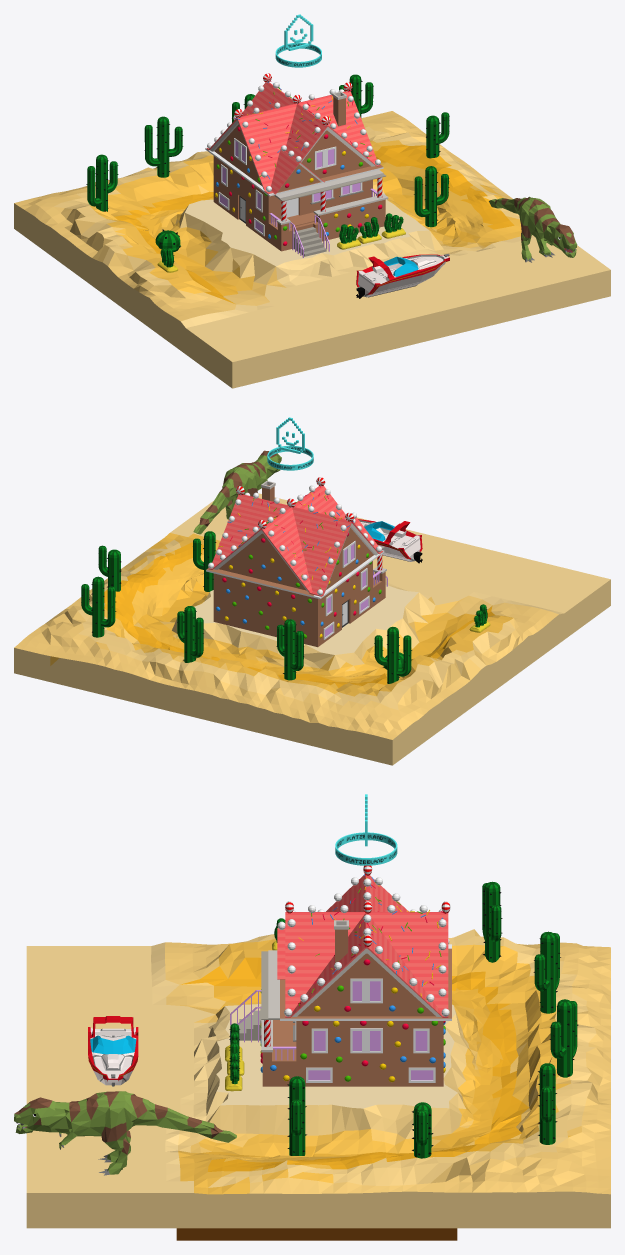
3 renders of one model, top to bottom at view 1: azimuth 30°, elevation 25°; view 2: azimuth 150°, elevation 25°; view 3: azimuth 270°, elevation 25°, orthographic. The views are drawn at different scales.
Visible parts, largest first — view 1: Cube.001, Cube.1203, ANIMAL_TREX, VEHICLES_BOAT, Cylinder.044, Cylinder.037, Cylinder.045, TYPE_PREMIUM, Cylinder.038, Cylinder.042; view 2: Cube.001, Cube.1203, ANIMAL_TREX, VEHICLES_BOAT, Cylinder.042, Cylinder.045, Cylinder.044, Cylinder.043, TYPE_PREMIUM, Cylinder.037, Cylinder.038; view 3: Cube.001, Cube.1203, ANIMAL_TREX, UNDERGROUND_ART_PIECE_VAN_GOGH, VEHICLES_BOAT, Cylinder.043, Cylinder.044, Cylinder.045, Cylinder.042, Cylinder.037, TYPE_PREMIUM, Cylinder.038.
Boxes of the visible parts, x1=… form: Cube.001: x1=14, y1=111, x2=610, y2=388; Cube.1203: x1=205, y1=73, x2=388, y2=257; ANIMAL_TREX: x1=489, y1=196, x2=577, y2=262; VEHICLES_BOAT: x1=356, y1=254, x2=449, y2=298; Cylinder.044: x1=144, y1=116, x2=183, y2=177; Cylinder.037: x1=414, y1=166, x2=449, y2=227; Cylinder.045: x1=86, y1=154, x2=118, y2=211; TYPE_PREMIUM: x1=275, y1=14, x2=321, y2=67; Cylinder.038: x1=426, y1=112, x2=449, y2=158; Cylinder.042: x1=339, y1=74, x2=373, y2=117; Cube.001: x1=14, y1=493, x2=610, y2=765; Cube.1203: x1=206, y1=477, x2=387, y2=647; ANIMAL_TREX: x1=193, y1=450, x2=281, y2=534; VEHICLES_BOAT: x1=358, y1=519, x2=422, y2=563; Cylinder.042: x1=81, y1=576, x2=116, y2=637; Cylinder.045: x1=374, y1=626, x2=412, y2=683; Cylinder.044: x1=276, y1=619, x2=303, y2=680; Cylinder.043: x1=177, y1=606, x2=203, y2=662; TYPE_PREMIUM: x1=267, y1=417, x2=313, y2=470; Cylinder.037: x1=193, y1=531, x2=216, y2=591; Cylinder.038: x1=98, y1=545, x2=121, y2=591; Cube.001: x1=26, y1=929, x2=610, y2=1228; Cube.1203: x1=230, y1=865, x2=451, y2=1086; ANIMAL_TREX: x1=14, y1=1091, x2=236, y2=1175; UNDERGROUND_ART_PIECE_VAN_GOGH: x1=176, y1=1228, x2=457, y2=1240; VEHICLES_BOAT: x1=88, y1=1016, x2=138, y2=1086; Cylinder.043: x1=549, y1=999, x2=578, y2=1077; Cylinder.044: x1=533, y1=931, x2=560, y2=1013; Cylinder.045: x1=482, y1=881, x2=502, y2=962; Cylinder.042: x1=538, y1=1063, x2=557, y2=1144; Cylinder.037: x1=287, y1=1076, x2=306, y2=1155; TYPE_PREMIUM: x1=335, y1=794, x2=397, y2=865; Cylinder.038: x1=412, y1=1102, x2=433, y2=1158.
Size of the model in its own units: 4002 by 2563 by 4088.
37 materials, 5 textured.
